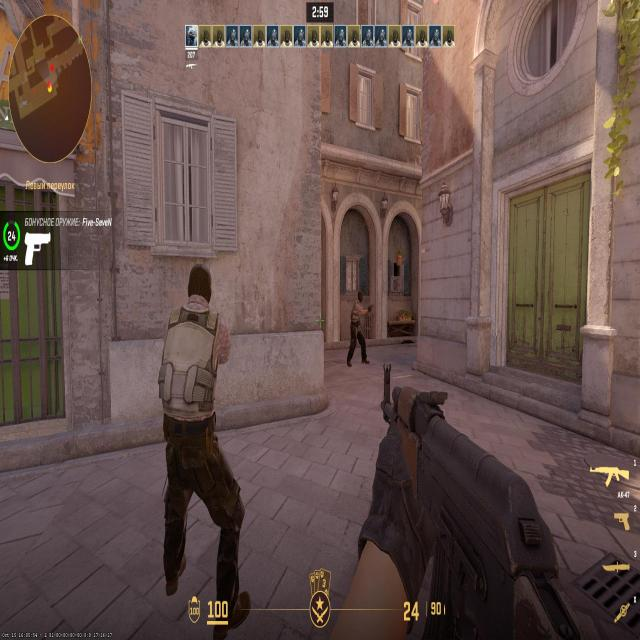T: (172, 264, 222, 506), (352, 290, 363, 361)
T_heat: (186, 273, 206, 318), (354, 294, 362, 305)
